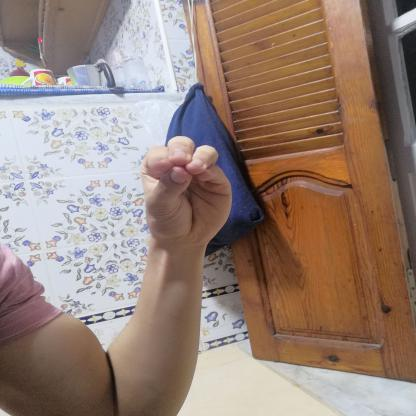HA: (128, 126, 243, 258)
